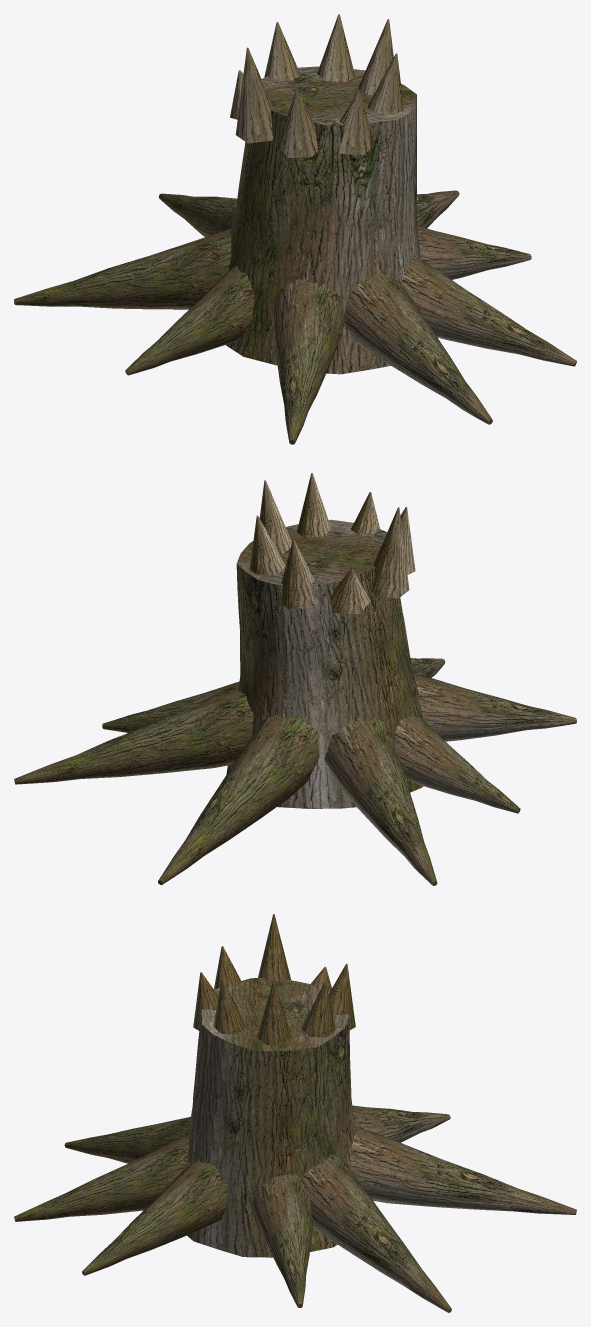
The model's file is broken_stump_lod1.gltf.
3 renders of one model, top to bottom at view 1: azimuth 30°, elevation 25°; view 2: azimuth 150°, elevation 25°; view 3: azimuth 270°, elevation 25°, orthographic. The views are drawn at different scales.
Parts seen in each view (by area): view 1: broken_stump_lod1; view 2: broken_stump_lod1; view 3: broken_stump_lod1.
Part boxes in pixels (x1,y1,x2,y2): broken_stump_lod1: (14, 14, 576, 444); broken_stump_lod1: (14, 473, 576, 885); broken_stump_lod1: (14, 914, 576, 1312).
Bounding box in the file's own units: 1.3 × 0.8439 × 1.58.
Materials: 2 (2 with a texture image).
